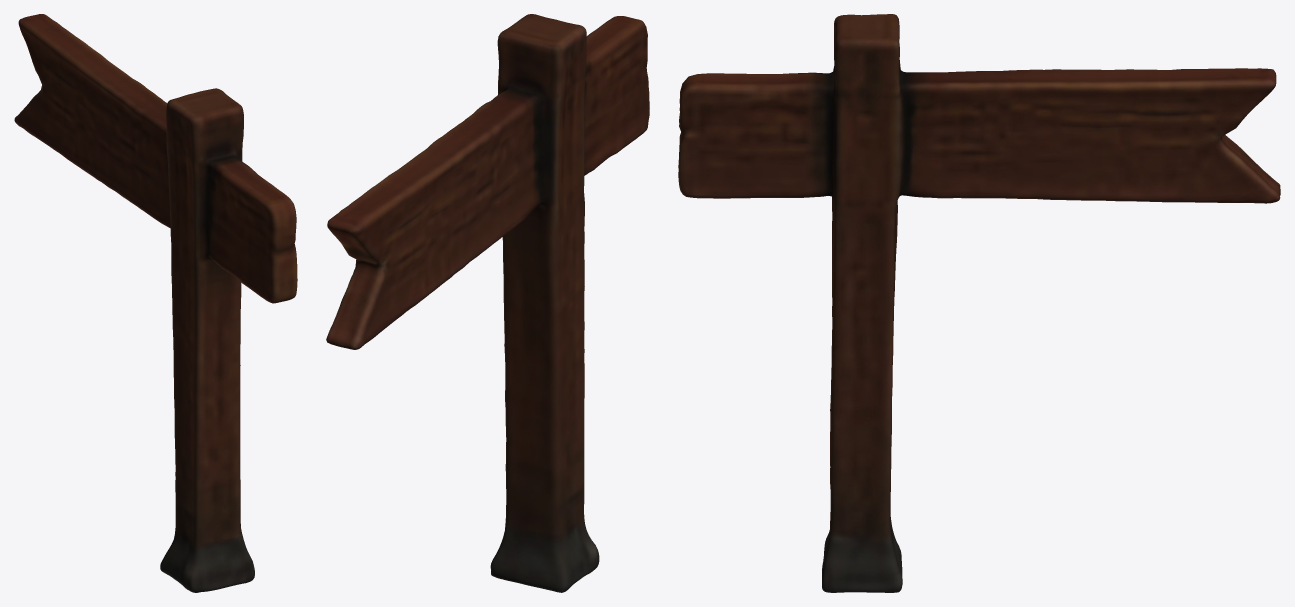
The model's file is 3492bcec052c_low_poly_wooden_emp.fbx.
3 views of the same model, side by side, from view 1: azimuth 30°, elevation 25°; view 2: azimuth 150°, elevation 25°; view 3: azimuth 270°, elevation 25° (orthographic). The views are drawn at different scales.
Visible parts, largest first — view 1: mesh; view 2: mesh; view 3: mesh.
Boxes of the visible parts, left/top/right/bottom form: mesh: left=14, top=14, right=297, bottom=592; mesh: left=326, top=14, right=649, bottom=592; mesh: left=678, top=14, right=1280, bottom=592.
Size of the model in its own units: 14.57 by 99.96 by 99.13.
